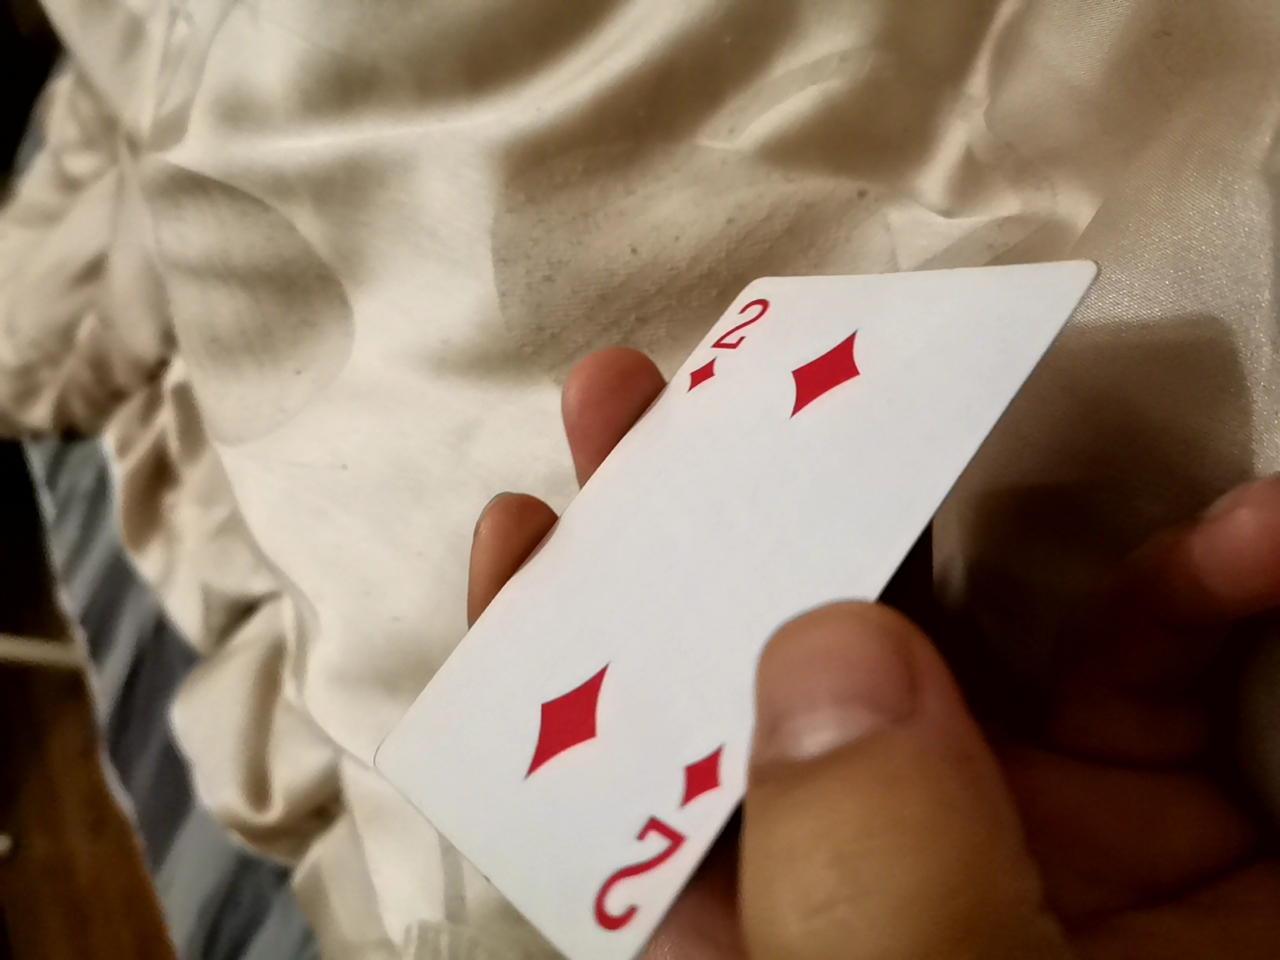fk 2: (336, 250, 1126, 933)
